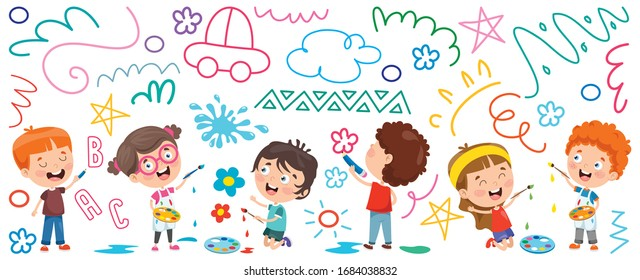car: (182, 6, 275, 84)
cloud: (283, 28, 386, 86)
flower: (171, 4, 205, 38), (211, 165, 246, 197), (331, 124, 358, 158), (411, 43, 442, 72), (537, 100, 566, 128), (8, 227, 37, 254), (207, 202, 234, 224), (323, 166, 348, 189)
sun: (300, 199, 354, 239)
